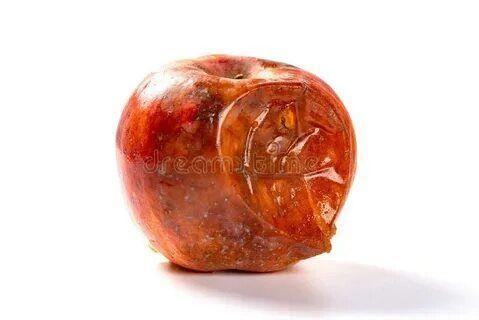Apple: (115, 56, 357, 270)
